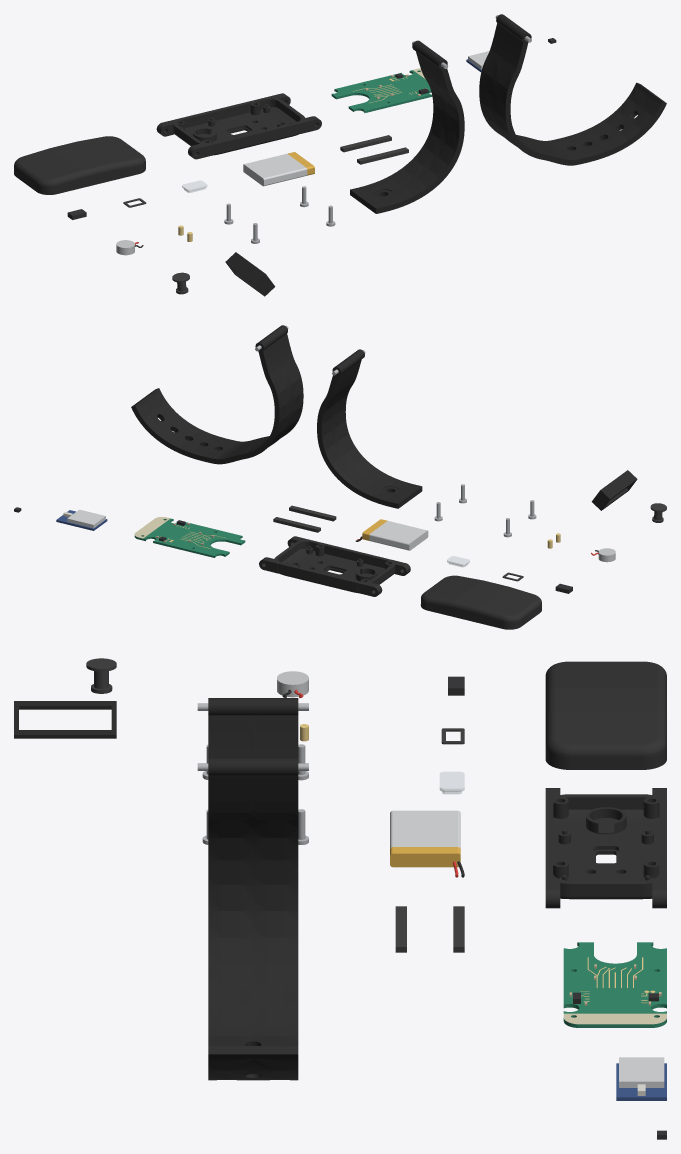
Rendered from bracelet_layout.glb.
3 views of the same model, one above another, from view 1: azimuth 30°, elevation 25°; view 2: azimuth 150°, elevation 25°; view 3: azimuth 270°, elevation 25° (orthographic). The views are drawn at different scales.
Parts seen in each view (by area): view 1: Band_strap_B_long, Band_strap_A_short, Lower_housing, Upper_housing_removable_cover, PCB_main_board, LiPo_battery_pouch, Band_keeper_loop, Battery_foam_spacers; view 2: Band_strap_B_long, Band_strap_A_short, Lower_housing, Upper_housing_removable_cover, PCB_main_board, LiPo_battery_pouch, Band_keeper_loop, Battery_foam_spacers, BLE_MCU_shield_can_nRF52832; view 3: Band_strap_B_long, Lower_housing, Upper_housing_removable_cover, PCB_main_board, Band_strap_A_short, LiPo_battery_pouch, Band_keeper_loop, LiPo_protection_end, BLE_MCU_shield_can_nRF52832, PCB_antenna_keepout, Battery_foam_spacers, BLE_module_board (+2 smaller).
Boxes of the visible parts, x1,y1,x2,y2 form: Band_strap_B_long: (479,14,666,165); Band_strap_A_short: (350,40,464,213); Lower_housing: (156,93,321,159); Upper_housing_removable_cover: (14,136,145,194); PCB_main_board: (331,70,432,113); LiPo_battery_pouch: (243,154,307,186); Band_keeper_loop: (225,252,275,296); Battery_foam_spacers: (340,135,408,164); Band_strap_B_long: (131,325,303,464); Band_strap_A_short: (317,349,422,508); Lower_housing: (259,536,410,596); Upper_housing_removable_cover: (420,575,541,629); PCB_main_board: (134,518,245,557); LiPo_battery_pouch: (369,521,428,550); Band_keeper_loop: (591,470,637,510); Battery_foam_spacers: (273,505,336,532); BLE_MCU_shield_can_nRF52832: (67,509,105,528); Band_strap_B_long: (208,758,298,1080); Lower_housing: (545,788,666,908); Upper_housing_removable_cover: (545,661,666,769); PCB_main_board: (563,942,666,1027); Band_strap_A_short: (208,698,298,757); LiPo_battery_pouch: (390,810,460,848); Band_keeper_loop: (14,701,116,738); LiPo_protection_end: (390,847,460,867); BLE_MCU_shield_can_nRF52832: (619,1057,664,1087); PCB_antenna_keepout: (563,1013,666,1024); Battery_foam_spacers: (395,906,464,952); BLE_module_board: (616,1063,666,1100).
Bounding box in the file's own units: 0.2132 × 0.0538 × 0.129.
